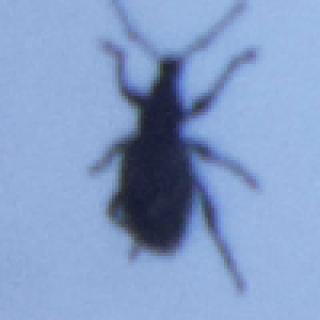bvw: (85, 0, 263, 298)
